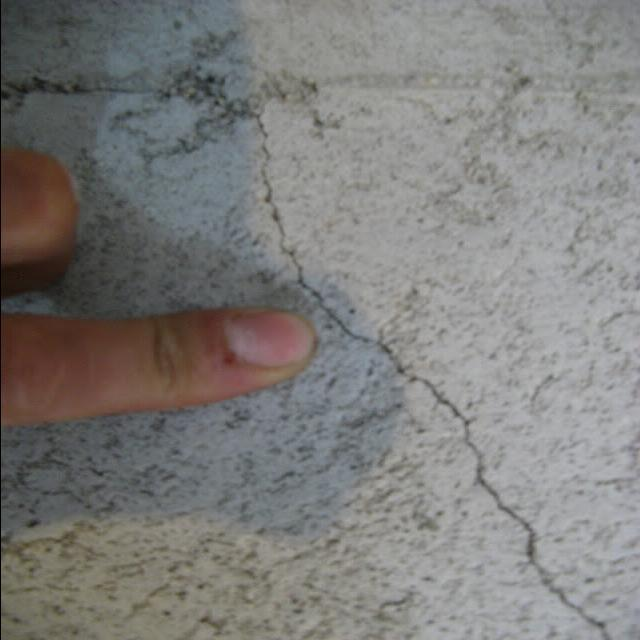wall_crack: (325, 306, 614, 640), (258, 113, 348, 304), (4, 67, 280, 112)
